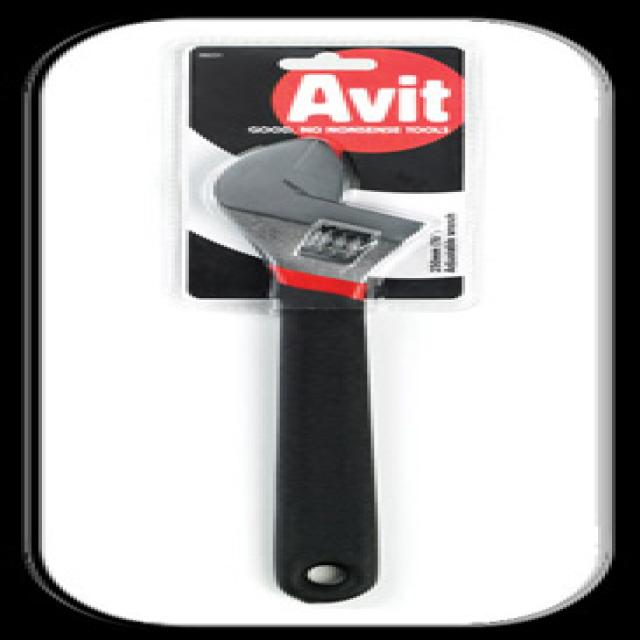wrench: (203, 127, 483, 637)
